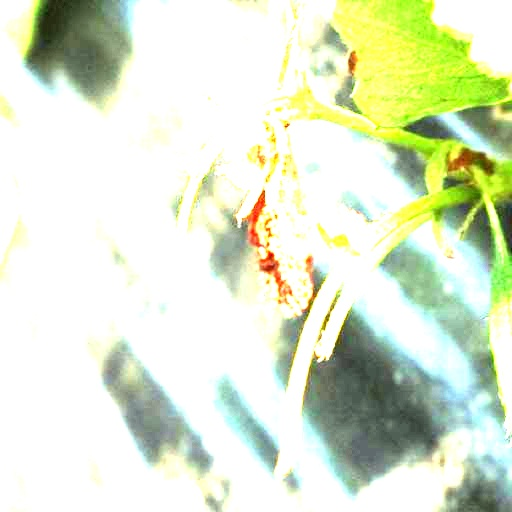Gray Mold: (192, 21, 315, 322)
